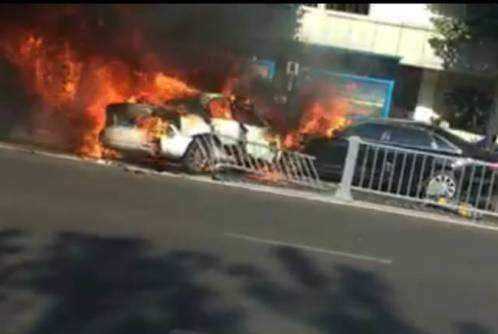fire: (1, 31, 258, 162), (281, 96, 354, 146)
